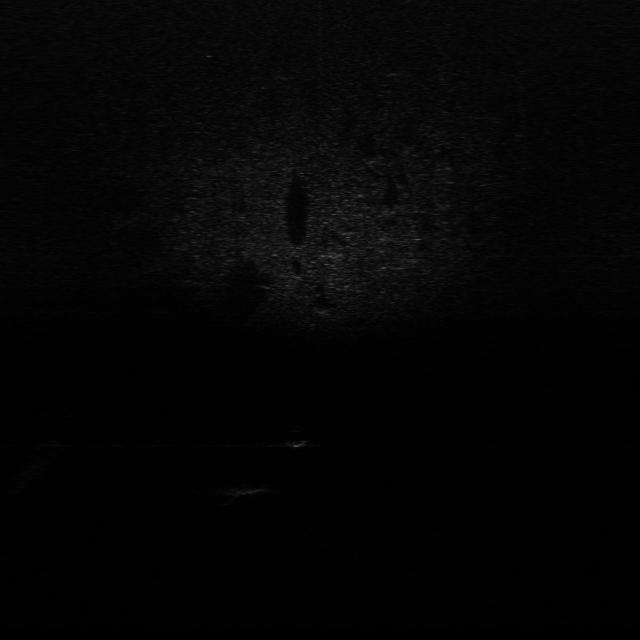ball: (278, 426, 310, 450)
square cage: (217, 478, 273, 498)
